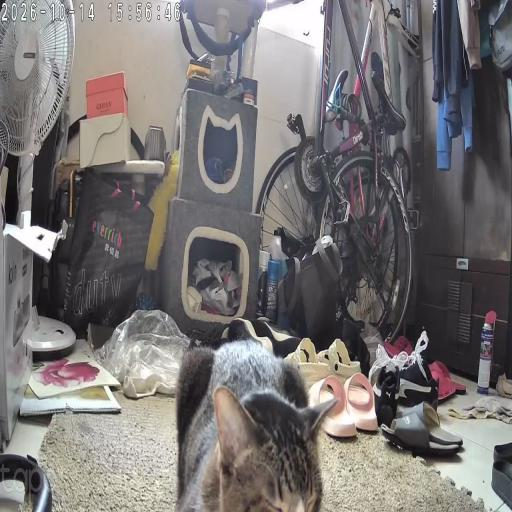cat: (183, 340, 318, 512)
